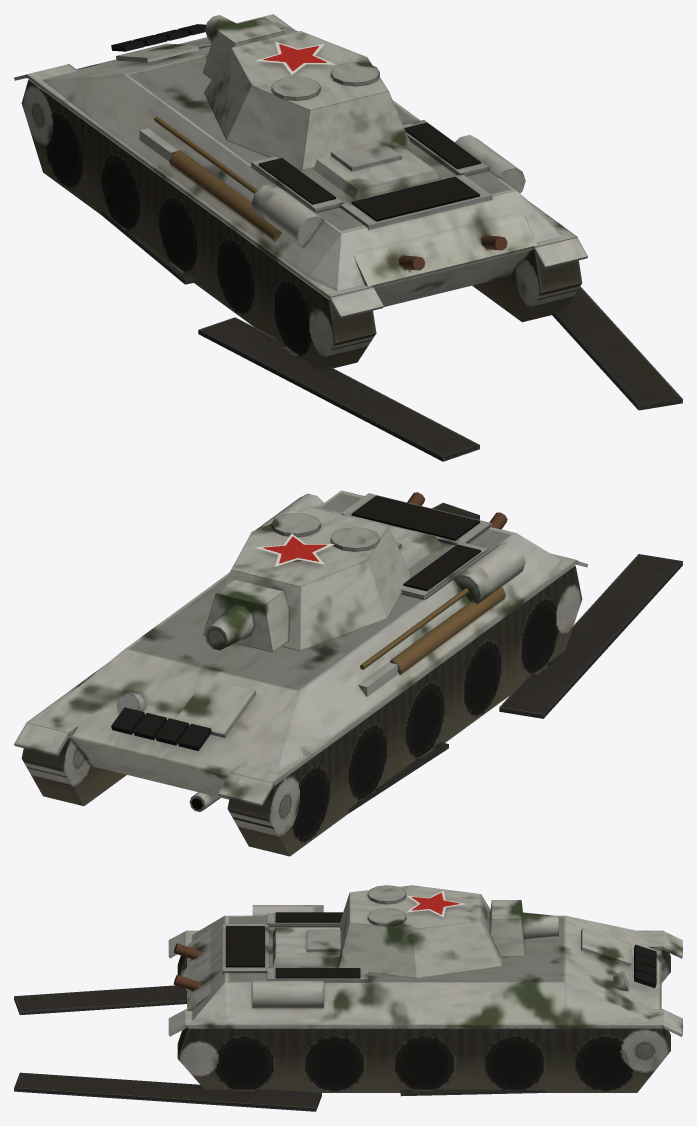
The model's file is t34_76_winter.glb.
The picture shows the model from 3 angles, top to bottom: view 1: azimuth 30°, elevation 25°; view 2: azimuth 150°, elevation 25°; view 3: azimuth 270°, elevation 25°; orthographic projection. The views are drawn at different scales.
Visible parts, largest first — view 1: hull_ok, turret_ok, hull_trackL, hull_trackR; view 2: hull_ok, turret_ok, hull_trackL; view 3: hull_ok, turret_ok, hull_trackR, hull_trackL.
Part boxes in pixels (box(x1,y1,x2,y2)): hull_ok: box(14, 14, 587, 369); turret_ok: box(203, 15, 410, 170); hull_trackL: box(101, 211, 479, 461); hull_trackR: box(552, 286, 682, 410); hull_ok: box(14, 490, 587, 856); turret_ok: box(203, 507, 410, 652); hull_trackL: box(348, 554, 682, 813); hull_ok: box(168, 905, 682, 1092); turret_ok: box(338, 885, 558, 978); hull_trackR: box(14, 1072, 545, 1111); hull_trackL: box(14, 985, 186, 1014).
Bounding box in the file's own units: 4.19 × 2.51 × 8.95.
11 materials, 11 textured.
